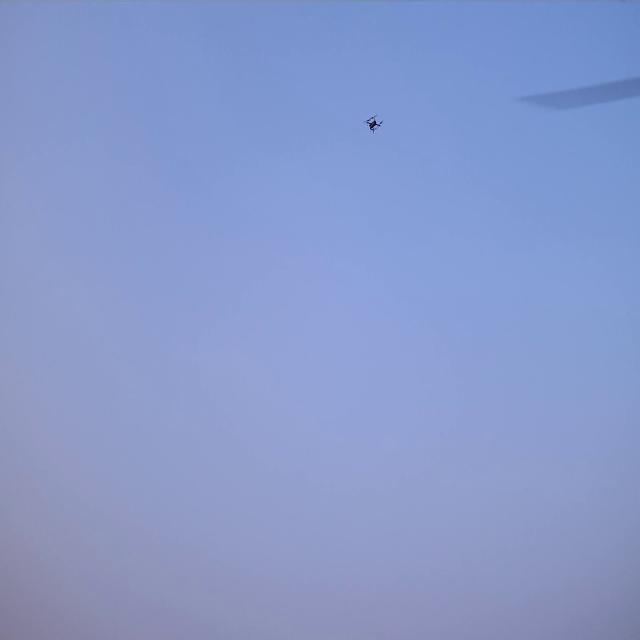UAV: (367, 116, 381, 133)
